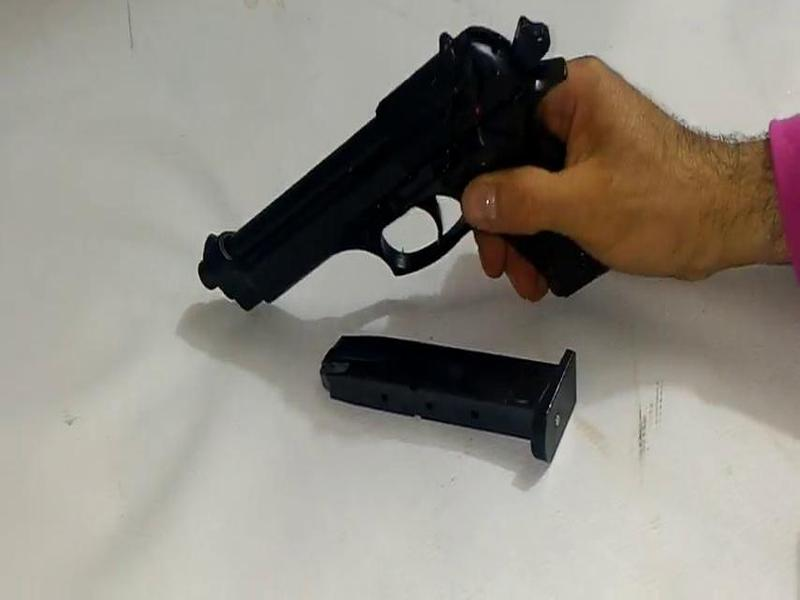Pistola: (176, 19, 645, 326)
